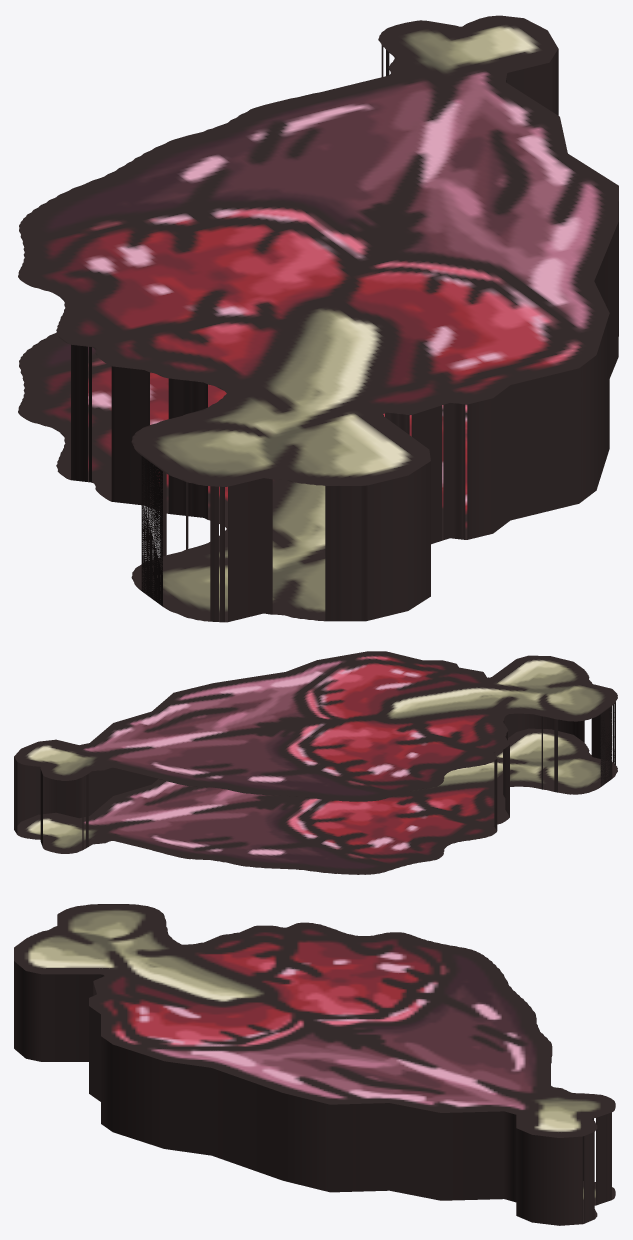
3 renders of one model, top to bottom at view 1: azimuth 30°, elevation 25°; view 2: azimuth 150°, elevation 25°; view 3: azimuth 270°, elevation 25°, orthographic. The views are drawn at different scales.
Visible parts, largest first — view 1: Curve; view 2: Curve; view 3: Curve.
Boxes of the visible parts, x1=… form: Curve: x1=18, y1=15, x2=618, y2=622; Curve: x1=14, y1=651, x2=617, y2=874; Curve: x1=14, y1=904, x2=615, y2=1225.
Bounding box in the file's own units: 0.9152 × 0.16 × 1.
1 material, 1 textured.
